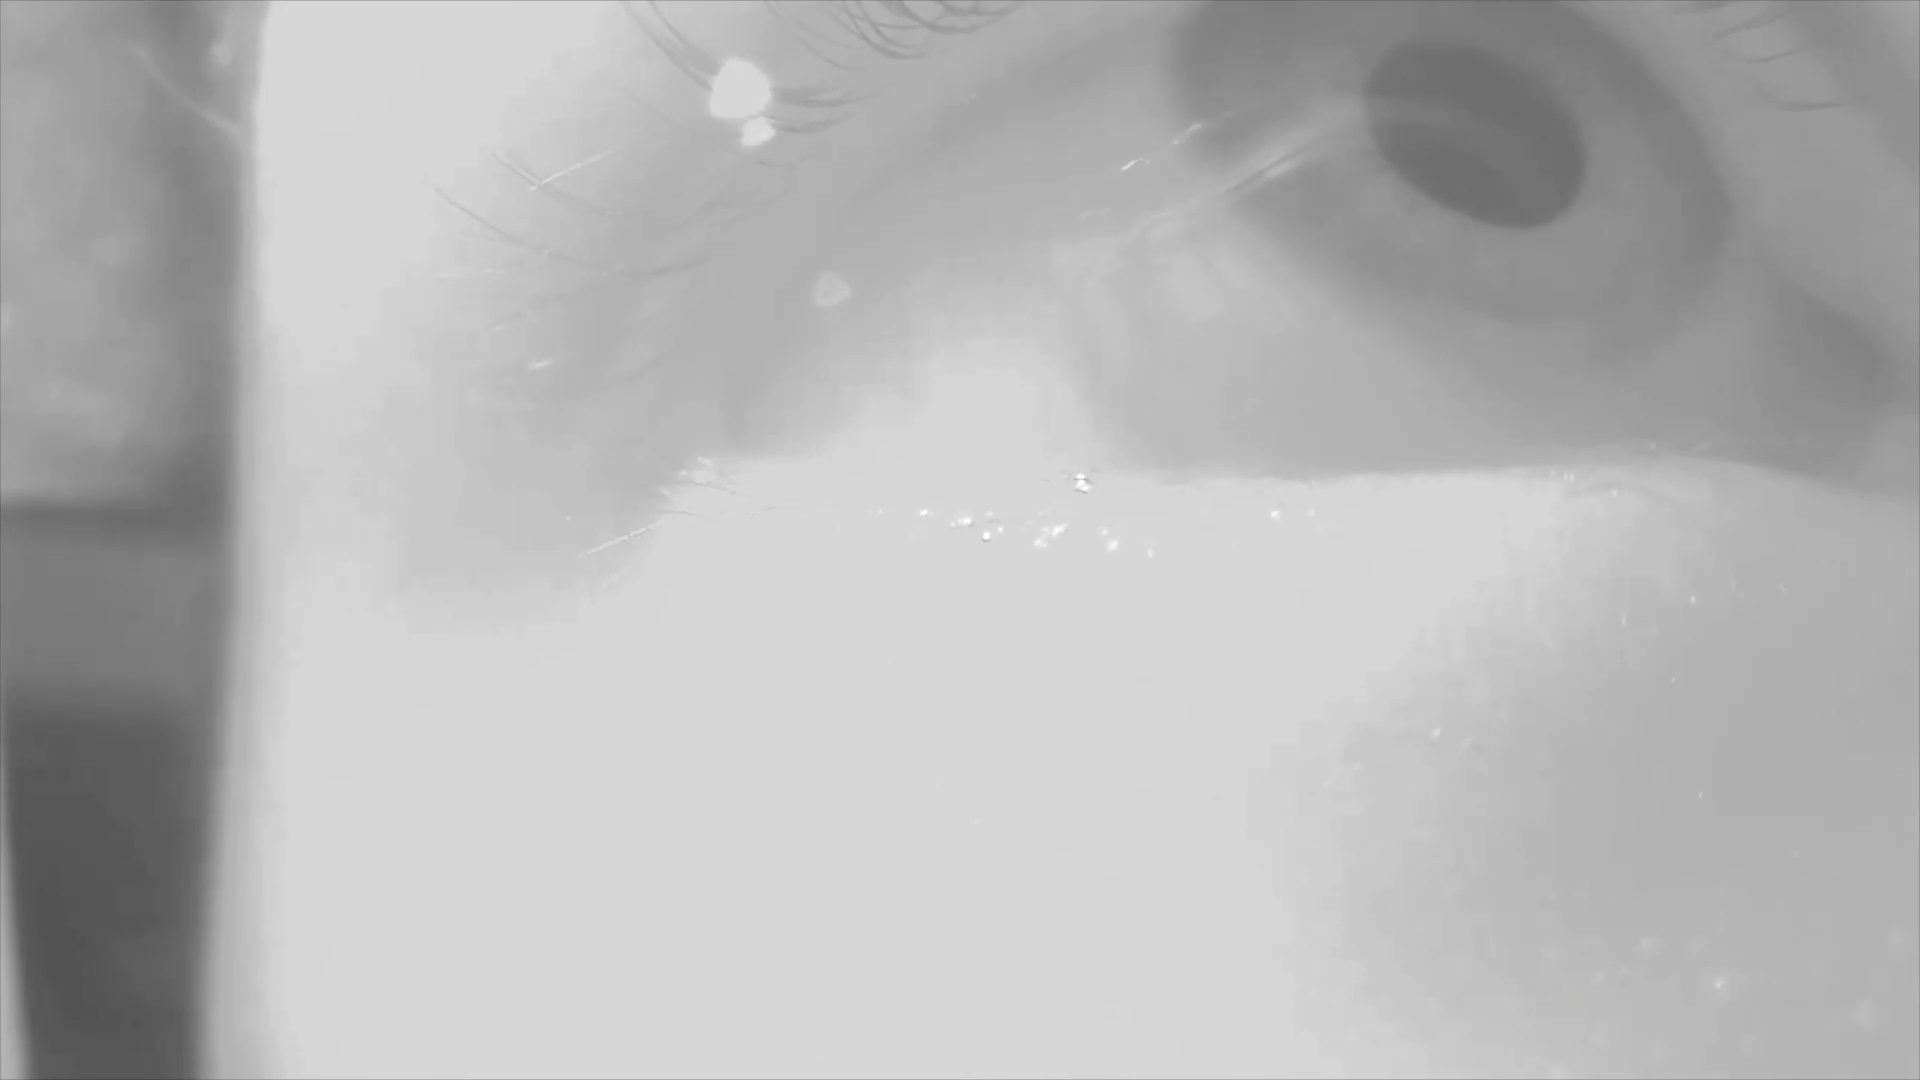pupil: (1364, 40, 1584, 230)
